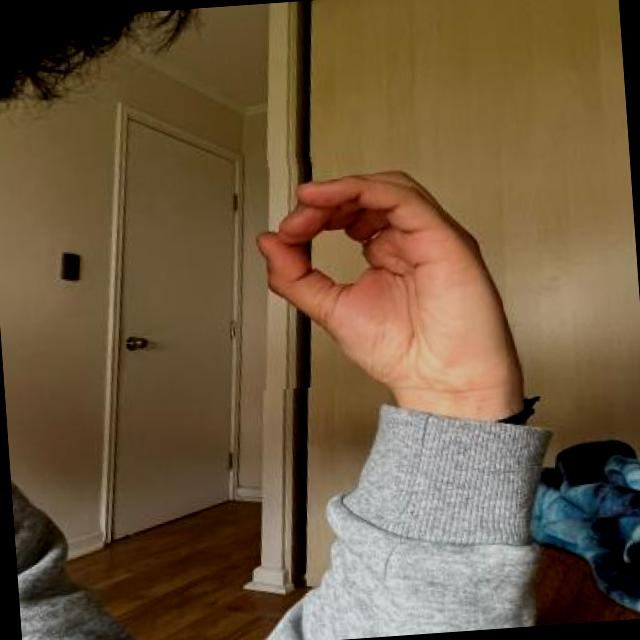O: (248, 144, 507, 390)
